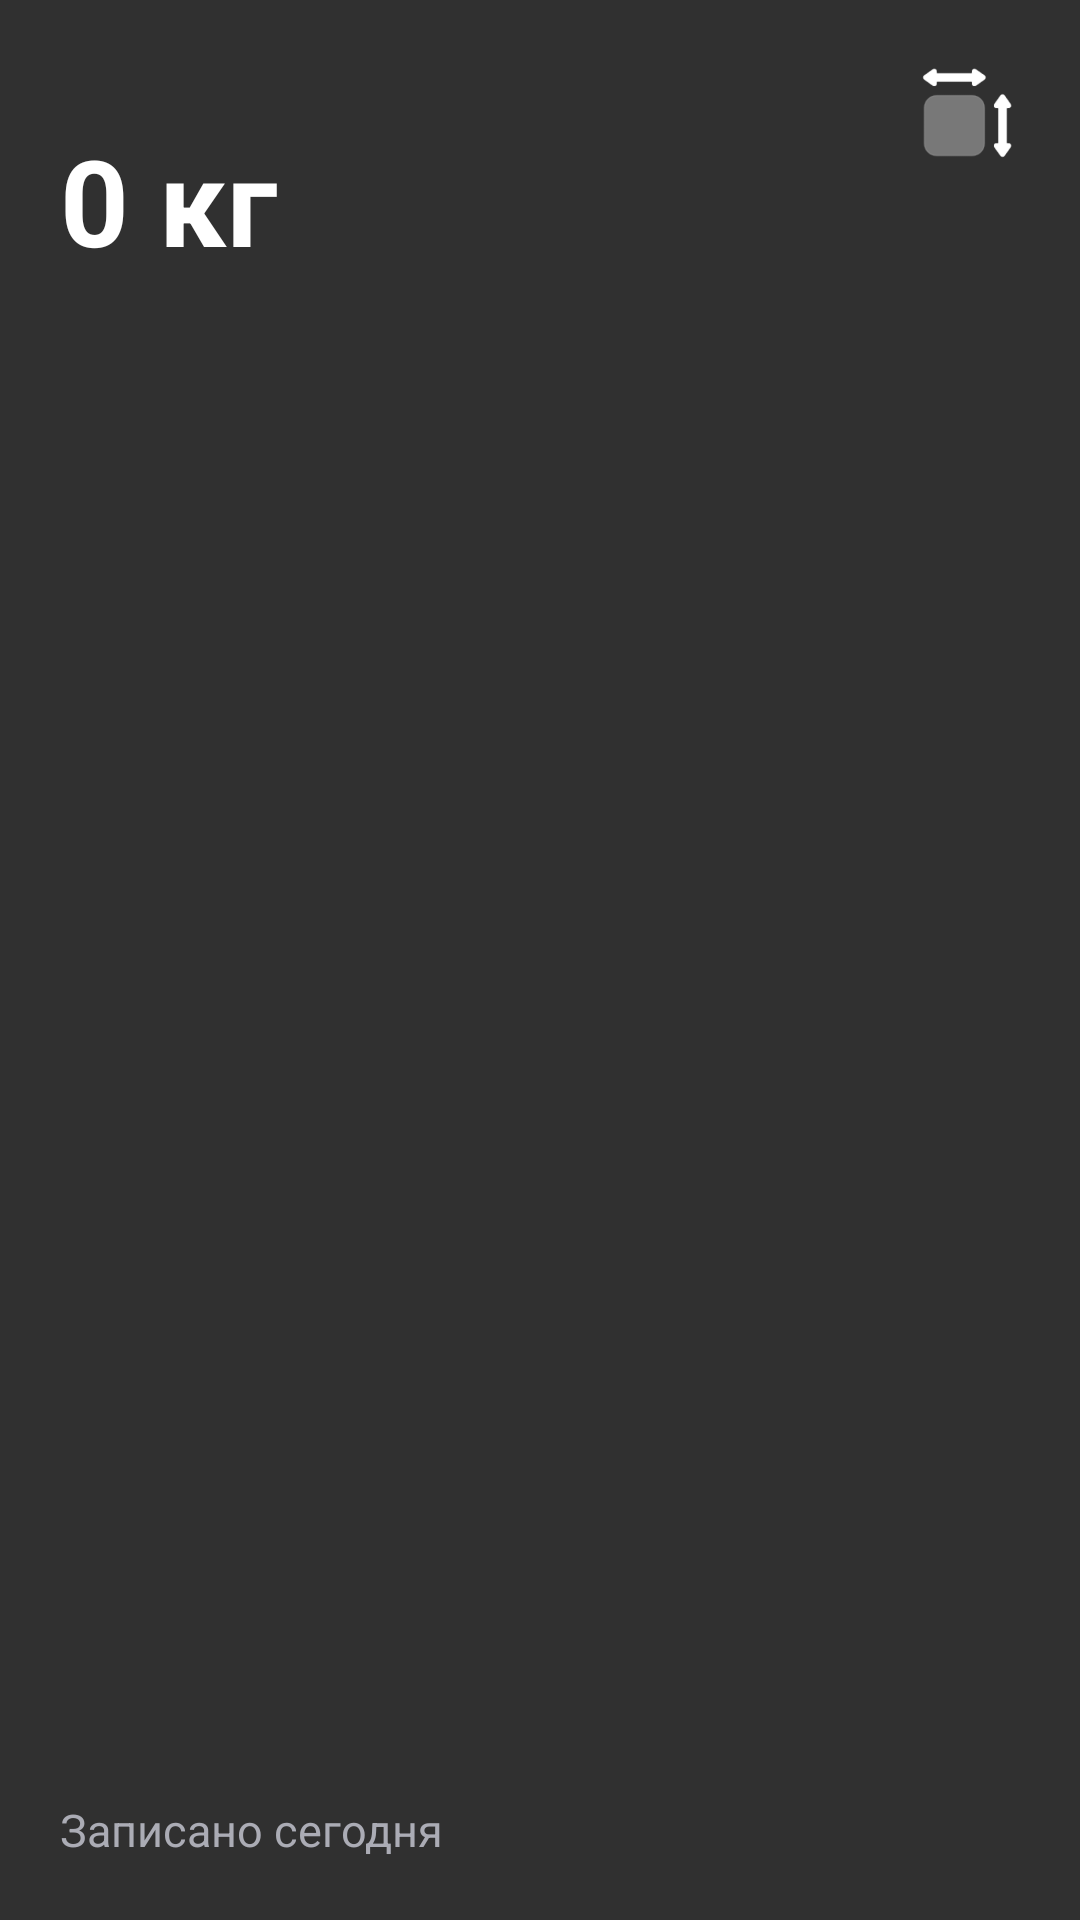

Where to tap for icons on this 1080 x 1920 app screen, as point (x, y):
metric: point (967, 112)
